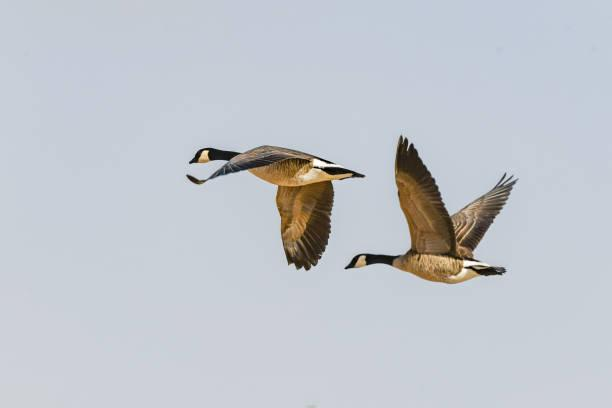Canadian-Goose: (347, 134, 519, 288), (185, 143, 363, 274)
